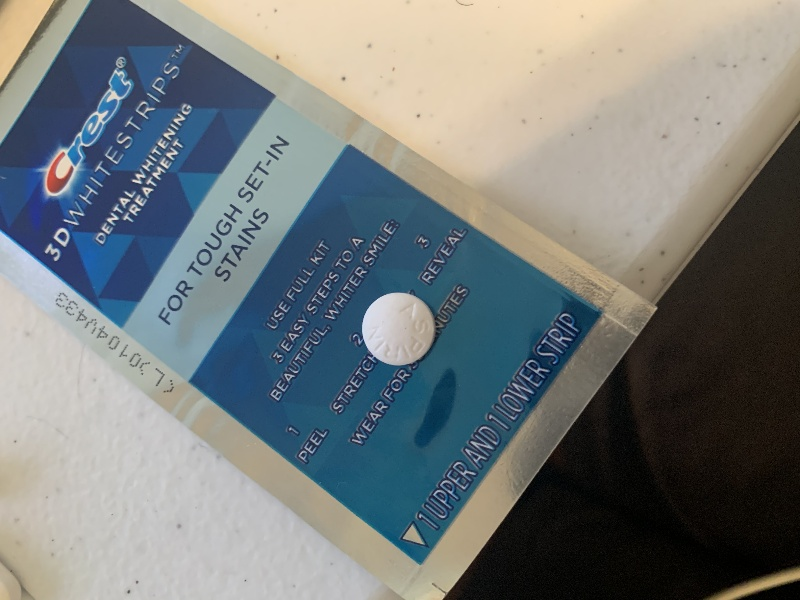Aspirin: (358, 287, 438, 368)
